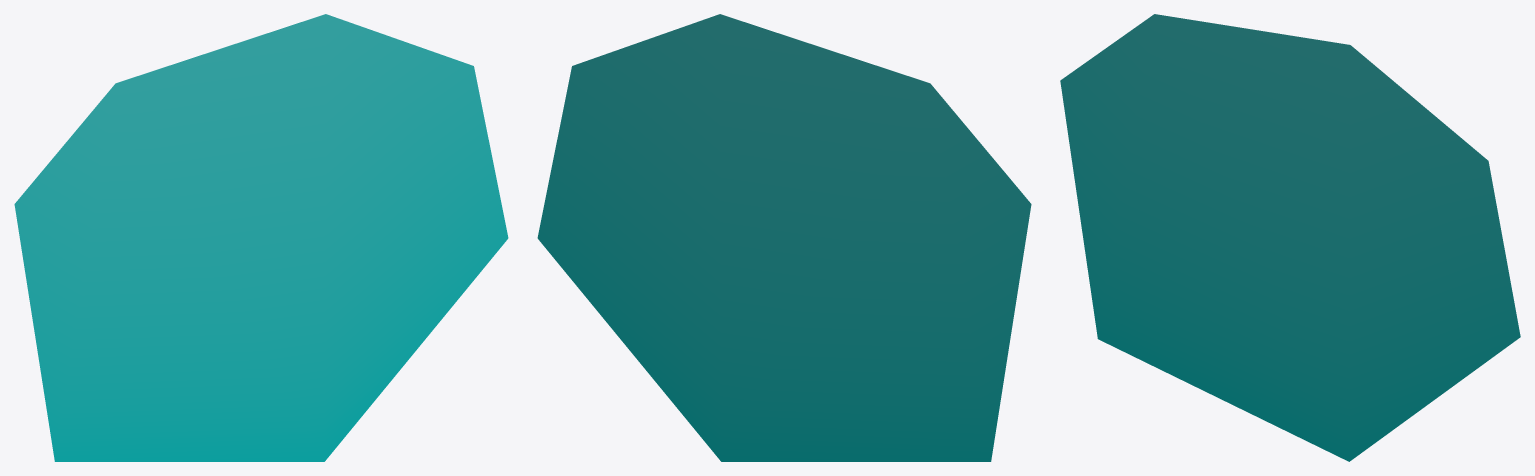
The model's file is Flat_Leaf_Parsley_umkkeiaia_Low_umkkeiaia_VarD_LOD2.fbx.
3 views of the same model, side by side, from view 1: azimuth 30°, elevation 25°; view 2: azimuth 150°, elevation 25°; view 3: azimuth 330°, elevation 25° (orthographic). The views are drawn at different scales.
Parts seen in each view (by area): view 1: _do5r_VarD_LOD5; view 2: _do5r_VarD_LOD5; view 3: _do5r_VarD_LOD5.
Boxes of the visible parts, x1,y1,x2,y2 form: _do5r_VarD_LOD5: (14,14,508,461); _do5r_VarD_LOD5: (537,14,1031,461); _do5r_VarD_LOD5: (1060,14,1520,461).
Size of the model in its own units: 32.11 by 27.8 by 0.
